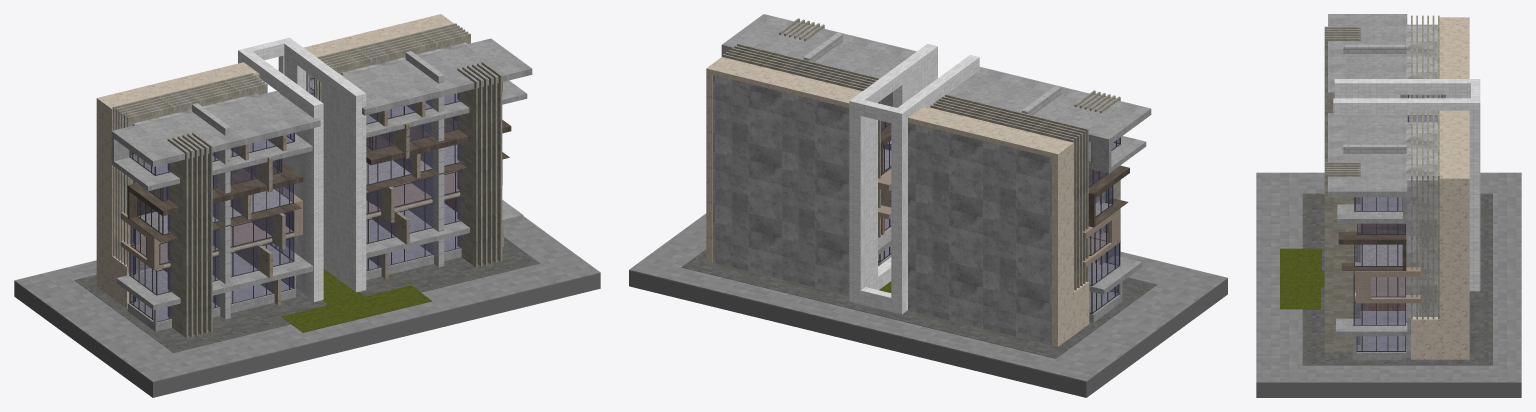
File: apartment-transformed.glb
3 renders of one model, left to right at view 1: azimuth 30°, elevation 25°; view 2: azimuth 150°, elevation 25°; view 3: azimuth 270°, elevation 25°, orthographic. The views are drawn at different scales.
Visible parts, largest first — view 1: Line002_04 - Default_0, Box020_Ceramic_0, Rectangle002_20 - Polished Aluminum_0, Line033_24 - Default_0, Box042_02 - Default_0, Box069_23 - Default_0, Box068_15 - Glossy Plastic_0, Rectangle001_21 - Default_0, Line001_06 - Default_0, Box028_Wall Paint_0, Line012_11 - Default_0, Shape021_01 - Default_0 (+4 smaller); view 2: Box026_12 - Car Paint_0, Rectangle002_20 - Polished Aluminum_0, Line002_04 - Default_0, Line033_24 - Default_0, Box068_15 - Glossy Plastic_0, Box069_23 - Default_0, Box020_Ceramic_0, Rectangle001_21 - Default_0, Box042_02 - Default_0, Line001_06 - Default_0, Line005_05 - Default_0, Shape021_01 - Default_0 (+1 smaller); view 3: Rectangle002_20 - Polished Aluminum_0, Line002_04 - Default_0, Box068_15 - Glossy Plastic_0, Box020_Ceramic_0, Line033_24 - Default_0, Rectangle001_21 - Default_0, Box026_12 - Car Paint_0, Box042_02 - Default_0, Box069_23 - Default_0, Line034_22 - Default_0, Line005_05 - Default_0, Line001_06 - Default_0 (+4 smaller).
Part boxes in pixels (left/top/right/bottom): Line002_04 - Default_0: left=111, top=38, right=532, bottom=331; Box020_Ceramic_0: left=112, top=23, right=502, bottom=338; Rectangle002_20 - Polished Aluminum_0: left=14, top=216, right=600, bottom=382; Line033_24 - Default_0: left=238, top=37, right=366, bottom=301; Box042_02 - Default_0: left=130, top=75, right=460, bottom=320; Box069_23 - Default_0: left=14, top=273, right=600, bottom=397; Box068_15 - Glossy Plastic_0: left=96, top=14, right=453, bottom=308; Rectangle001_21 - Default_0: left=74, top=237, right=539, bottom=352; Line001_06 - Default_0: left=127, top=117, right=511, bottom=242; Box028_Wall Paint_0: left=192, top=51, right=444, bottom=319; Line012_11 - Default_0: left=230, top=101, right=425, bottom=304; Shape021_01 - Default_0: left=129, top=74, right=502, bottom=322; Box026_12 - Car Paint_0: left=713, top=75, right=1051, bottom=344; Rectangle002_20 - Polished Aluminum_0: left=629, top=213, right=1227, bottom=381; Line002_04 - Default_0: left=721, top=14, right=1151, bottom=322; Line033_24 - Default_0: left=849, top=44, right=979, bottom=314; Box068_15 - Glossy Plastic_0: left=706, top=57, right=1089, bottom=346; Box069_23 - Default_0: left=629, top=270, right=1227, bottom=397; Box020_Ceramic_0: left=722, top=18, right=1120, bottom=291; Rectangle001_21 - Default_0: left=681, top=249, right=1157, bottom=358; Box042_02 - Default_0: left=878, top=121, right=1119, bottom=312; Line001_06 - Default_0: left=881, top=121, right=1129, bottom=227; Line005_05 - Default_0: left=878, top=168, right=1119, bottom=267; Shape021_01 - Default_0: left=878, top=122, right=1120, bottom=313; Rectangle002_20 - Polished Aluminum_0: left=1256, top=172, right=1521, bottom=382; Line002_04 - Default_0: left=1328, top=14, right=1407, bottom=360; Box068_15 - Glossy Plastic_0: left=1411, top=17, right=1469, bottom=359; Box020_Ceramic_0: left=1324, top=15, right=1439, bottom=352; Line033_24 - Default_0: left=1333, top=79, right=1480, bottom=291; Rectangle001_21 - Default_0: left=1302, top=193, right=1492, bottom=365; Box026_12 - Car Paint_0: left=1406, top=24, right=1445, bottom=356; Box042_02 - Default_0: left=1355, top=95, right=1441, bottom=350; Box069_23 - Default_0: left=1256, top=383, right=1521, bottom=397; Line034_22 - Default_0: left=1280, top=248, right=1324, bottom=309; Line005_05 - Default_0: left=1356, top=267, right=1420, bottom=303; Line001_06 - Default_0: left=1338, top=224, right=1406, bottom=270.
Bounding box in the file's own units: 68.3 × 31.03 × 36.58.
17 materials, 14 textured.
